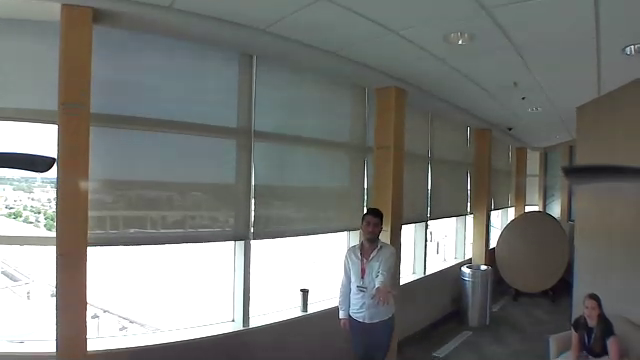land: (367, 283, 404, 314)
